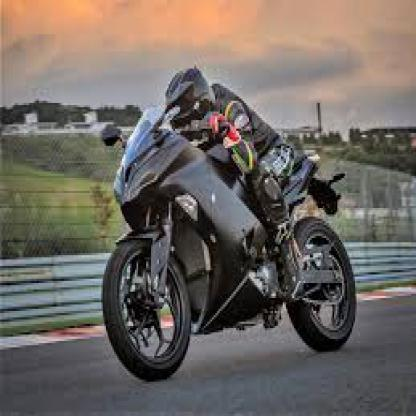Motorcycle: (91, 124, 361, 375)
